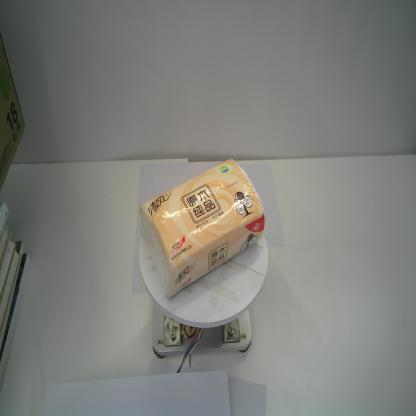Tissue: (138, 157, 267, 302)
